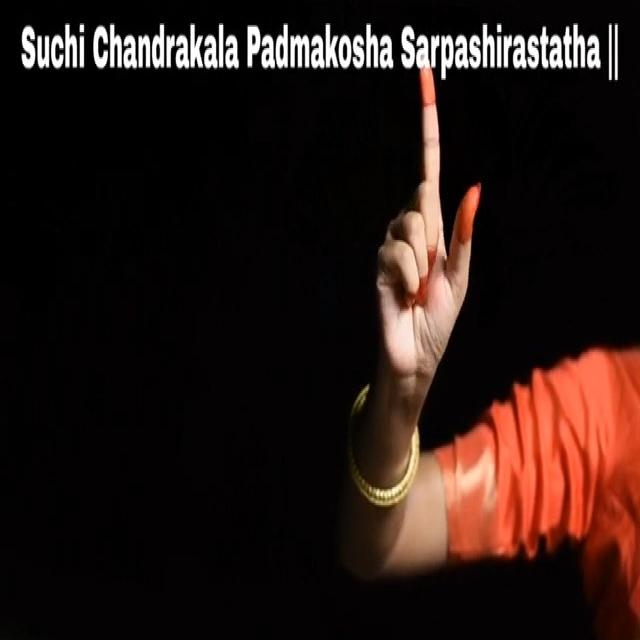Chandrakala: (373, 74, 489, 402)
bangle: (331, 422, 442, 517)
text: (15, 16, 628, 88)
